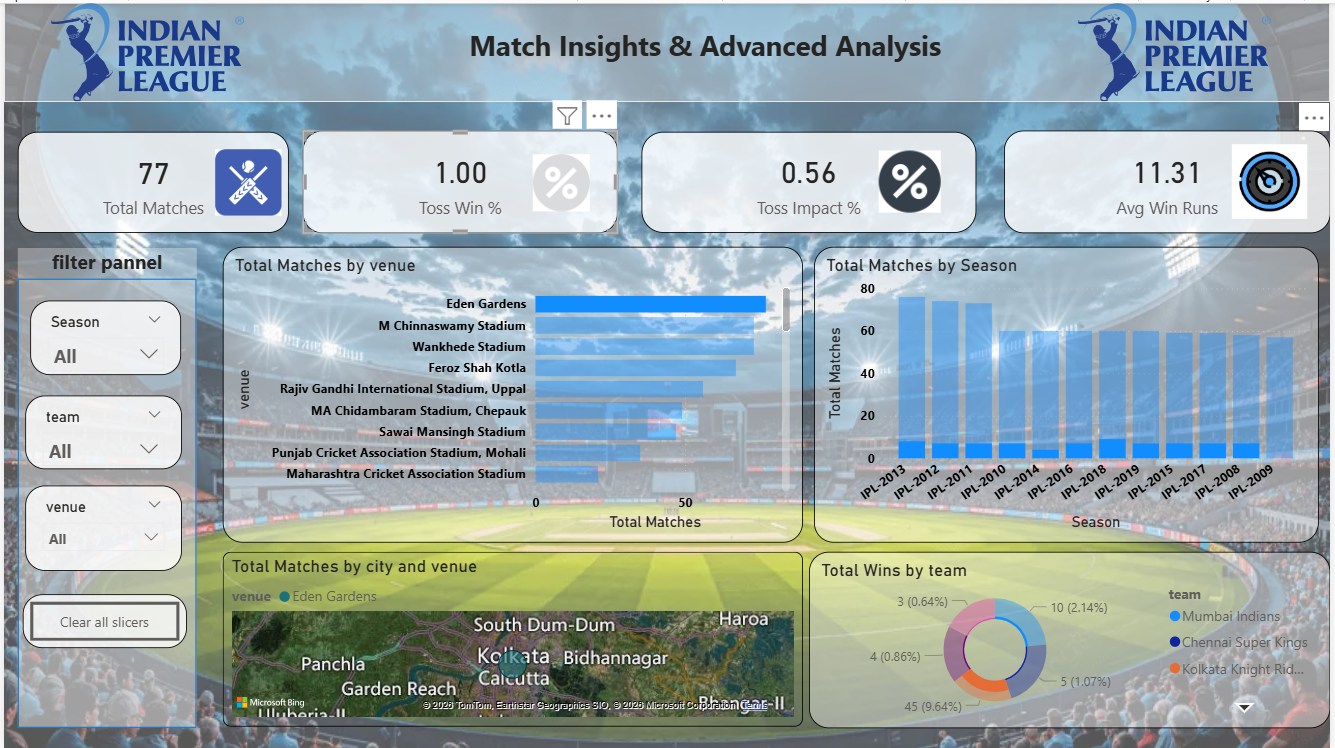

Layout of this report page (visuals, bound fields, positions):
{"tool":"powerbi","page":{"name":"MATCH INSIGHT AND ADVANCED ANALYSIS","canvas":[1280,720],"ordinal":4},"visuals":[{"type":"textbox","box":[0,0,1280,95.3],"z":0},{"type":"card","fields":{"Values":["deliveries.Total Matches"]},"box":[13.3,124.3,261.8,97.7],"z":1000},{"type":"card","fields":{"Values":["Teamss.Toss Impact %"]},"box":[615.3,124.3,323.3,97.7],"z":2000},{"type":"card","fields":{"Values":["Teamss.Toss Win %"]},"box":[288.3,123.1,304,98.9],"z":3000},{"type":"card","fields":{"Values":["Teamss.Avg Win Runs"]},"box":[965.2,123.1,314.9,98.9],"z":4000},{"type":"clusteredBarChart","fields":{"Category":["matches.venue"],"Y":["deliveries.Total Matches"]},"box":[211.1,235.3,559.8,285.9],"z":5000},{"type":"columnChart","fields":{"Category":["matches.Season"],"Y":["deliveries.Total Matches"]},"box":[781.8,235.3,487.4,285.9],"z":6000},{"type":"donutChart","fields":{"Y":["Teamss.Total Wins"],"Category":["Teamss.team"]},"box":[776.9,529.6,503.1,170.1],"z":7000},{"type":"shape","title":"filter pannel","box":[13.3,236.5,172.5,463.3],"z":8000},{"type":"slicer","fields":{"Values":["matches.Season"]},"box":[25.3,287.1,146,72.4],"z":9000},{"type":"slicer","fields":{"Values":["Teamss.team"]},"box":[20.5,378.8,150.8,71.2],"z":10000},{"type":"slicer","fields":{"Values":["matches.venue"]},"box":[20.5,465.7,150.8,82],"z":11000},{"type":"actionButton","box":[18.1,570.6,158,51.9],"z":12000},{"type":"map","fields":{"Category":["matches.city"],"Series":["matches.venue"],"Size":["deliveries.Total Matches"]},"box":[211.1,529.6,559.8,168.9],"z":13000},{"type":"image","box":[510.3,143.6,55.5,60.3],"z":14000},{"type":"image","box":[776.9,142.4,194.2,60.3],"z":15000},{"type":"image","box":[196.6,141.2,78.4,63.9],"z":16000},{"type":"image","box":[1173.9,136.3,95.3,72.4],"z":17000},{"type":"image","box":[13.3,0,249.7,95.3],"z":18000},{"type":"image","box":[979.6,0,300.4,95.3],"z":19000}]}

Visuals, with their boxes in screenshot pixels (x1, y1, x2, y2), scaled from the page's 1280x720 canvas onto the 1335x748 screenshot:
textbox: (0, 0, 1334, 99)
card - deliveries.Total Matches: (14, 129, 287, 231)
card - Teamss.Toss Impact %: (642, 129, 979, 231)
card - Teamss.Toss Win %: (301, 128, 618, 231)
card - Teamss.Avg Win Runs: (1007, 128, 1334, 231)
clusteredBarChart - matches.venue x deliveries.Total Matches: (220, 244, 804, 541)
columnChart - matches.Season x deliveries.Total Matches: (815, 244, 1324, 541)
donutChart - Teamss.Total Wins x Teamss.team: (810, 550, 1334, 727)
"filter pannel" shape: (14, 246, 194, 727)
slicer - matches.Season: (26, 298, 179, 373)
slicer - Teamss.team: (21, 394, 179, 468)
slicer - matches.venue: (21, 484, 179, 569)
actionButton: (19, 593, 184, 647)
map - matches.city x matches.venue: (220, 550, 804, 726)
image: (532, 149, 590, 212)
image: (810, 148, 1013, 211)
image: (205, 147, 287, 213)
image: (1224, 142, 1324, 217)
image: (14, 0, 274, 99)
image: (1022, 0, 1334, 99)
